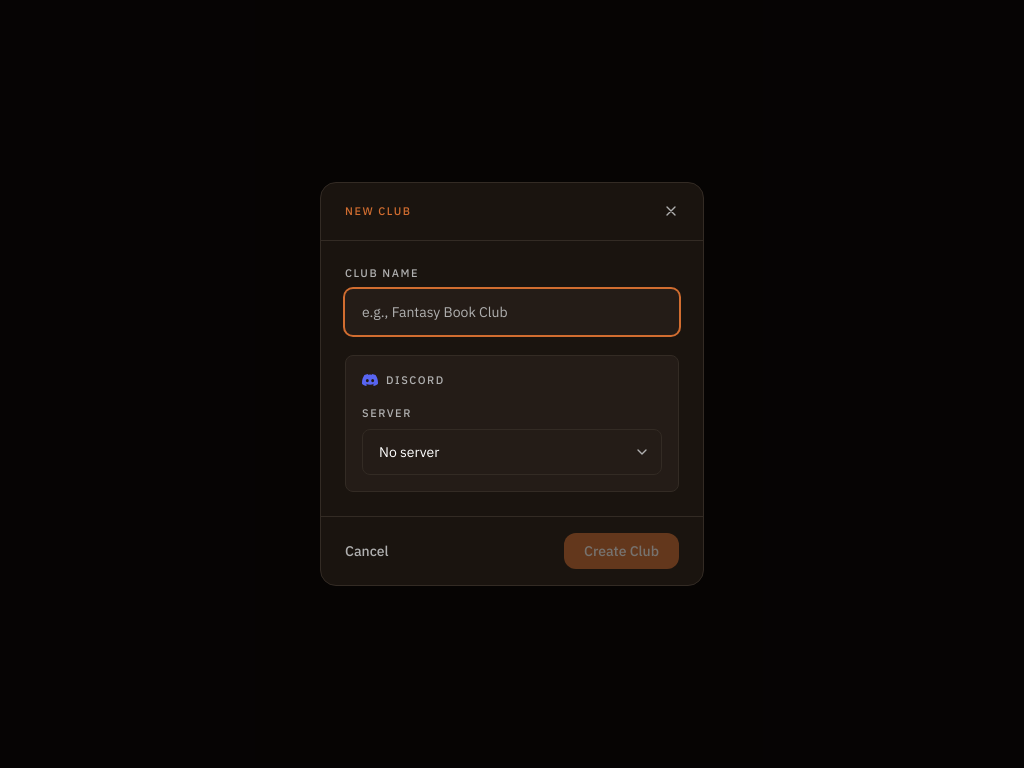
Test: AddClubModal › Discord section › should show channel dropdown when server is selected from multi-guild list
Select "Blingers' Books" in the dropdown labelled "Server". click: (512, 452)
box: top-left (362, 429), bottom-right (662, 475)
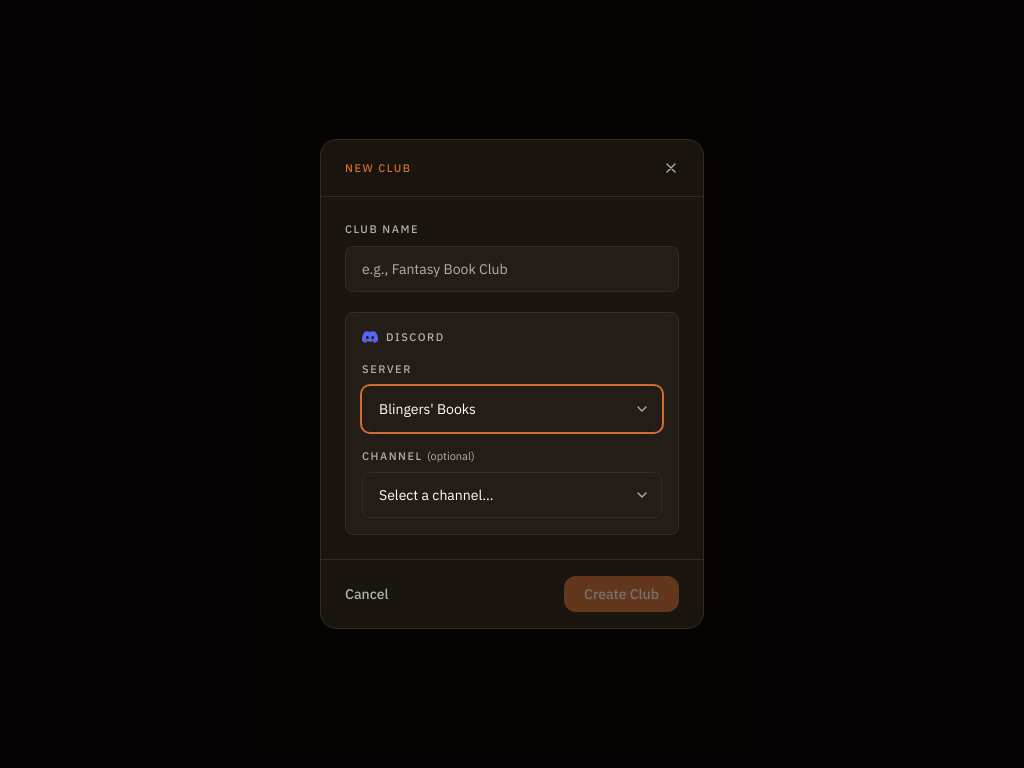
Now the dropdown labelled "Channel (optional)" is shown, box top-left (362, 472), bottom-right (662, 518)
